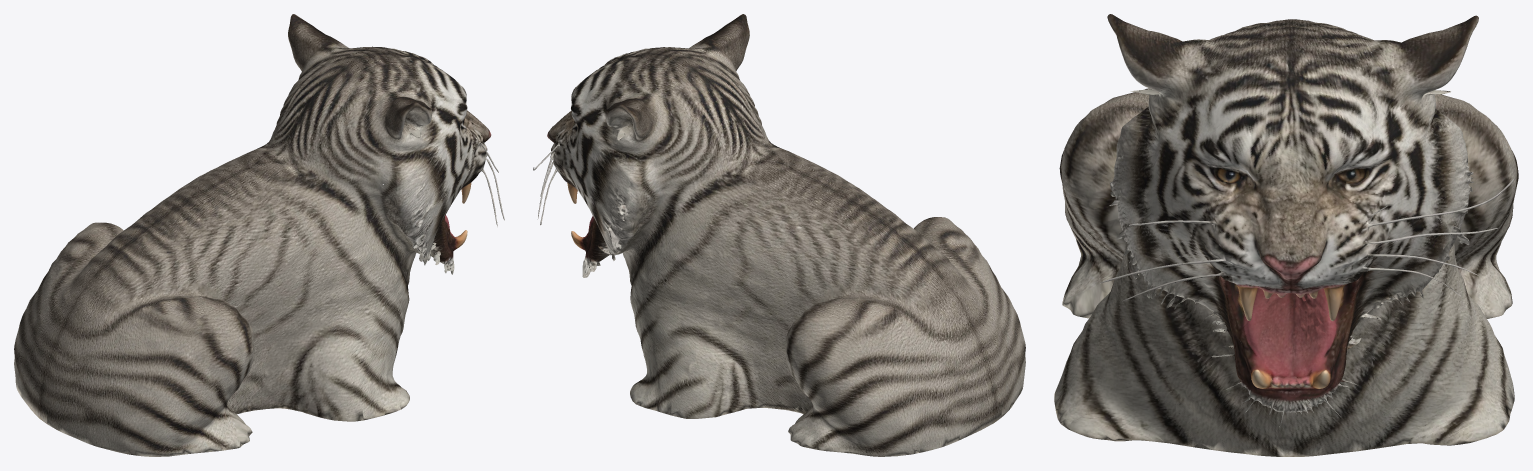
The model's file is tigre-ruge.glb.
The picture shows the model from 3 angles, left to right: view 1: azimuth 30°, elevation 25°; view 2: azimuth 150°, elevation 25°; view 3: azimuth 270°, elevation 25°; orthographic projection. The views are drawn at different scales.
Visible parts, largest first — view 1: tripo_node_7df58d6d-4f16-49ce-aef1-ffc9d0881d29; view 2: tripo_node_7df58d6d-4f16-49ce-aef1-ffc9d0881d29; view 3: tripo_node_7df58d6d-4f16-49ce-aef1-ffc9d0881d29.
Part boxes in pixels (box(x1,y1,x2,y2)): tripo_node_7df58d6d-4f16-49ce-aef1-ffc9d0881d29: box(14, 14, 504, 456); tripo_node_7df58d6d-4f16-49ce-aef1-ffc9d0881d29: box(533, 14, 1025, 456); tripo_node_7df58d6d-4f16-49ce-aef1-ffc9d0881d29: box(1054, 14, 1518, 456).
Size of the model in its own units: 0.9999 by 0.6206 by 0.6022.
1 material, 1 textured.
